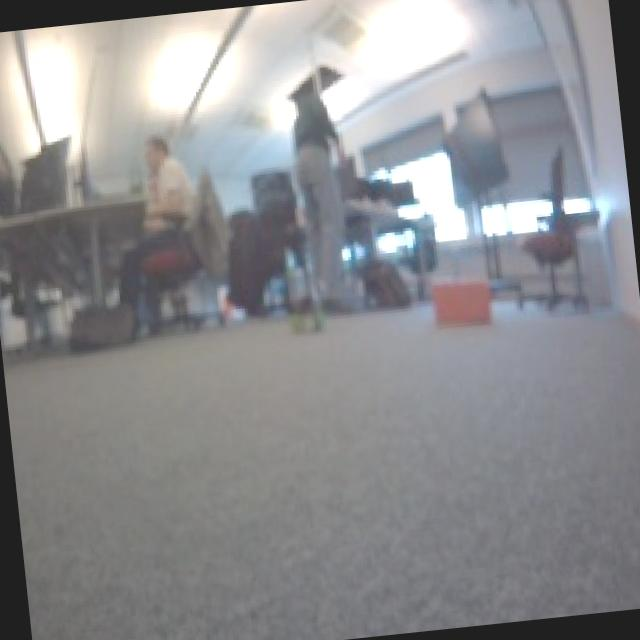robot: (282, 290, 332, 338)
target: (428, 271, 492, 328)
